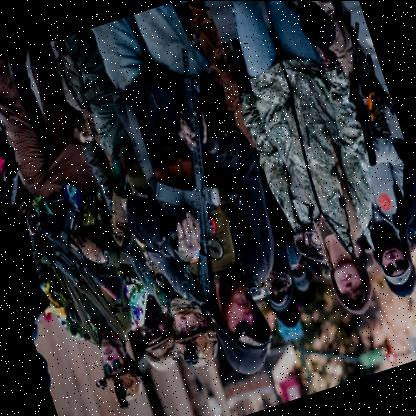rifle: (104, 43, 271, 320), (18, 181, 134, 328), (315, 14, 402, 159)
